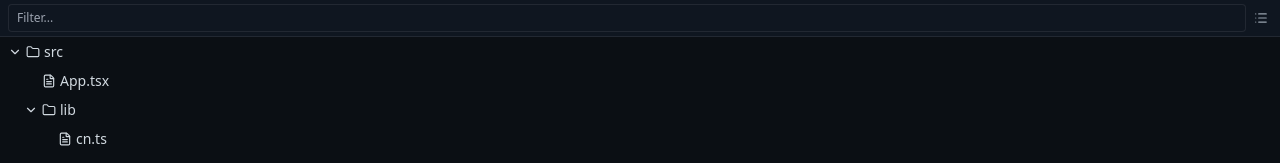
Test case: Tree › filterable=true renders a search input; matching node stays visible
Type "App" into the field at point(627, 18), box [8, 4, 1246, 32]
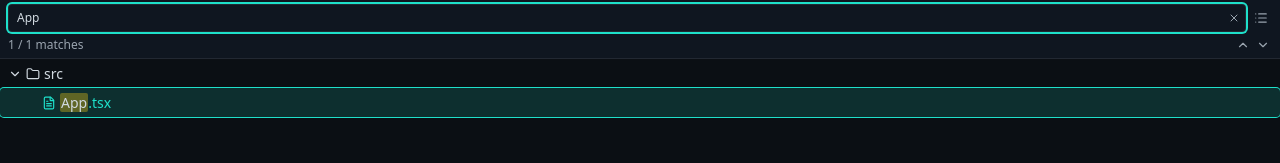
Expected: the text "App.tsx" is shown, [60, 92, 111, 113]
Expected: the message reads "1 / 1 matches", [8, 36, 84, 53]
